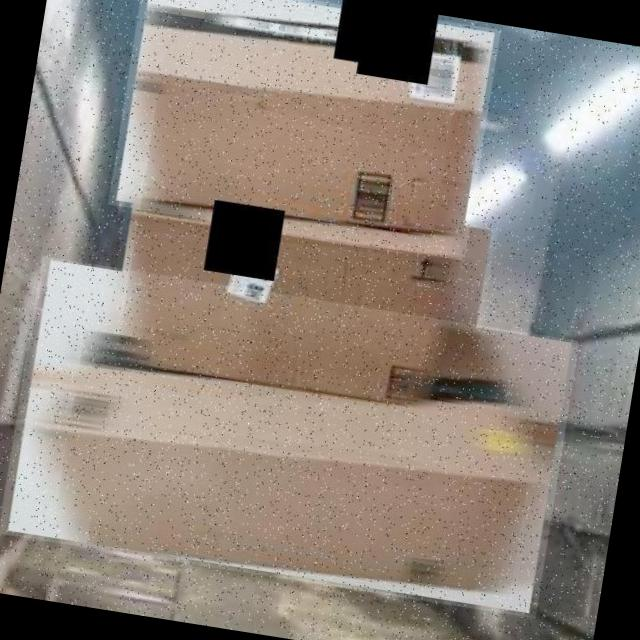box: (0, 256, 579, 619), (98, 172, 497, 442), (108, 0, 501, 261)
